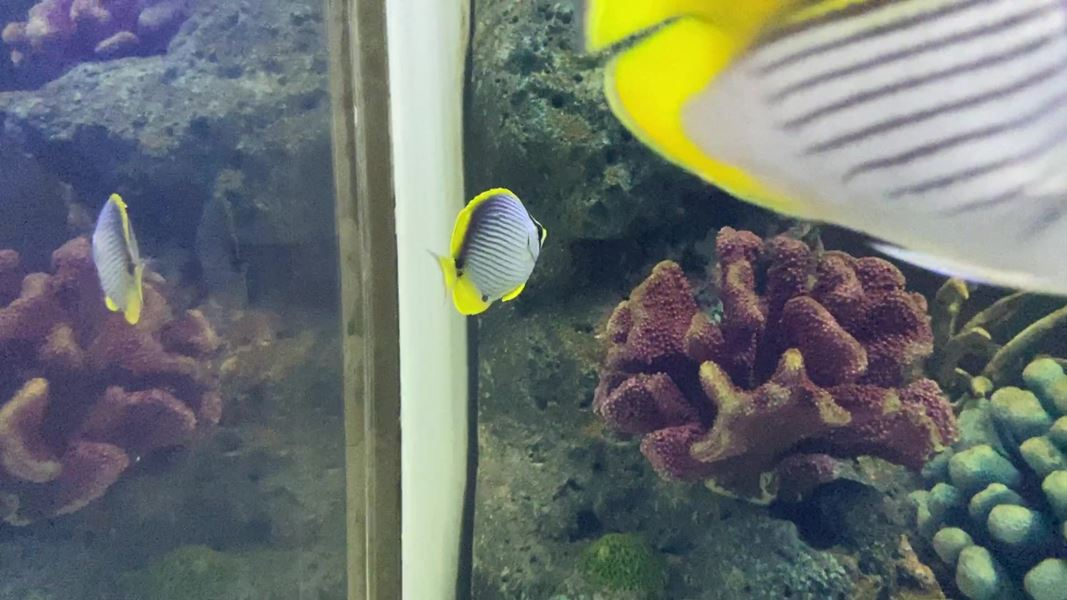Black-backed butterflyfish: (419, 178, 558, 326)
